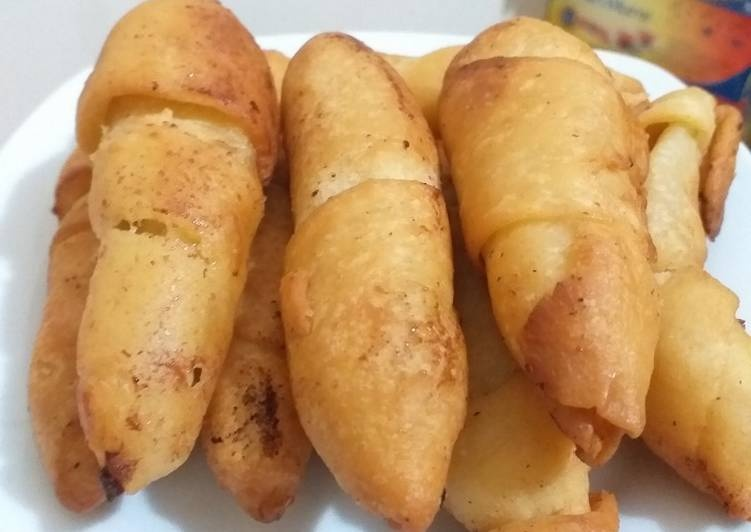pisang_molen: (74, 1, 278, 494), (438, 17, 659, 469), (276, 31, 467, 531)
